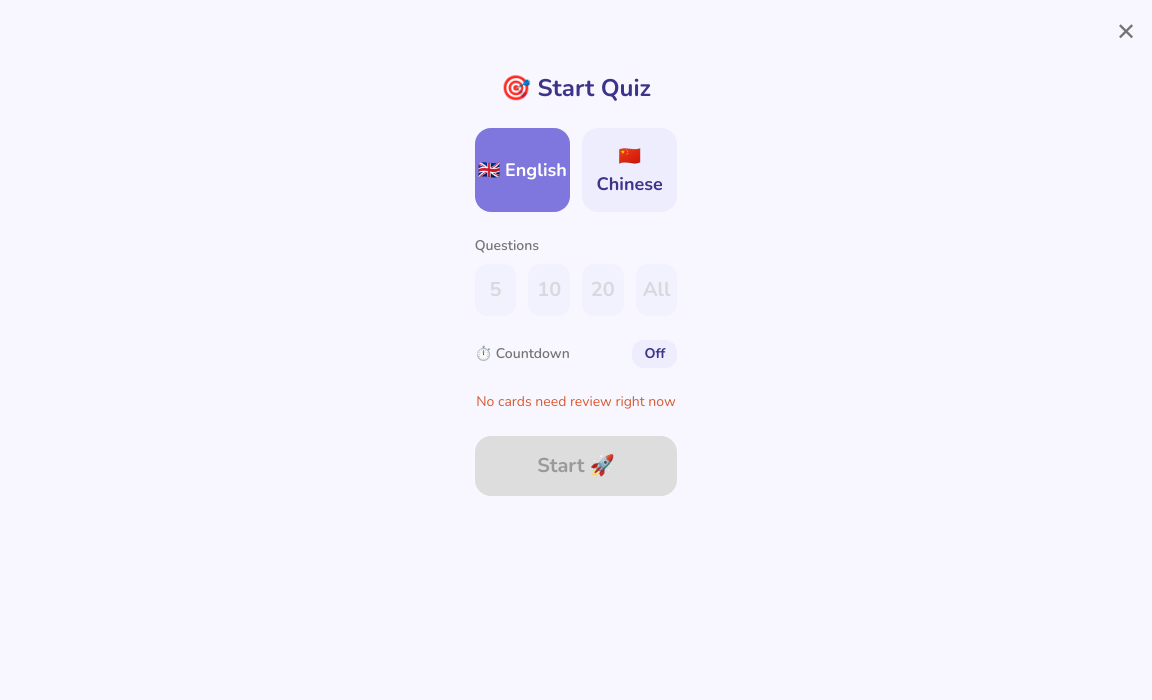
Scenario: QuizMode — Memory helper empty state › does not render the hint skeleton while fallback memory text is already visible
This screenshot has width=1152, height=700.
Click the button "🇨🇳 Chinese": x=630, y=170 x1=582 y1=128 x2=677 y2=212
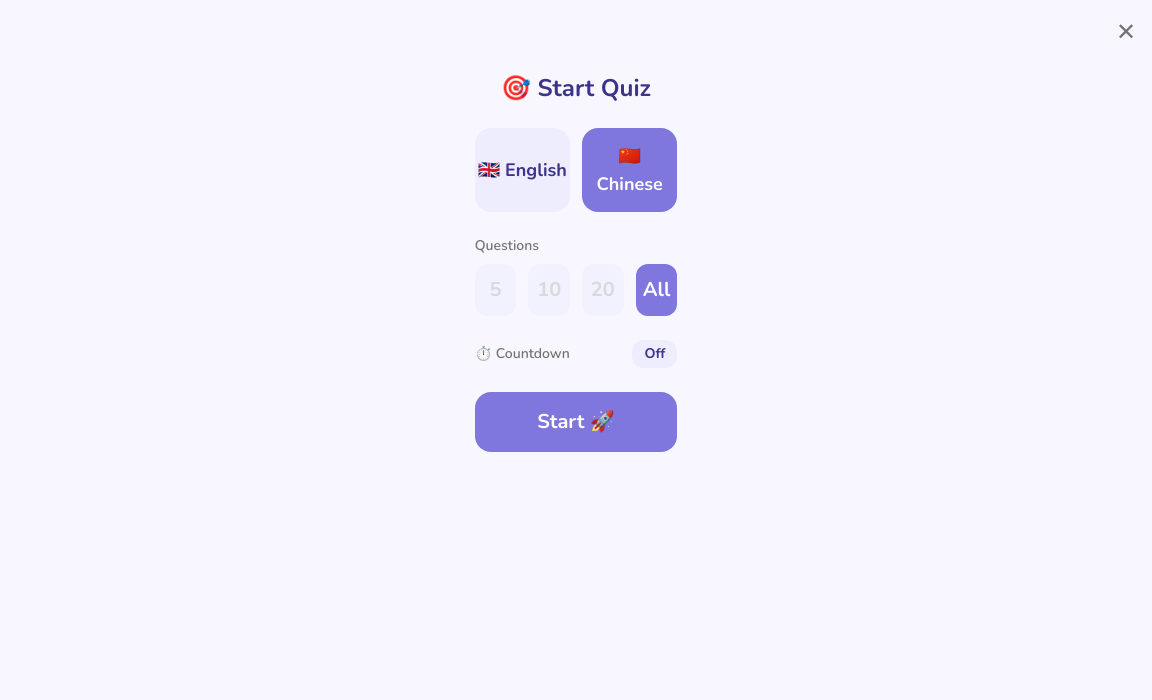
expect the button "Start 🚀" is enabled: met
Click the button "Start 🚀": x=576, y=422 x1=475 y1=392 x2=677 y2=452
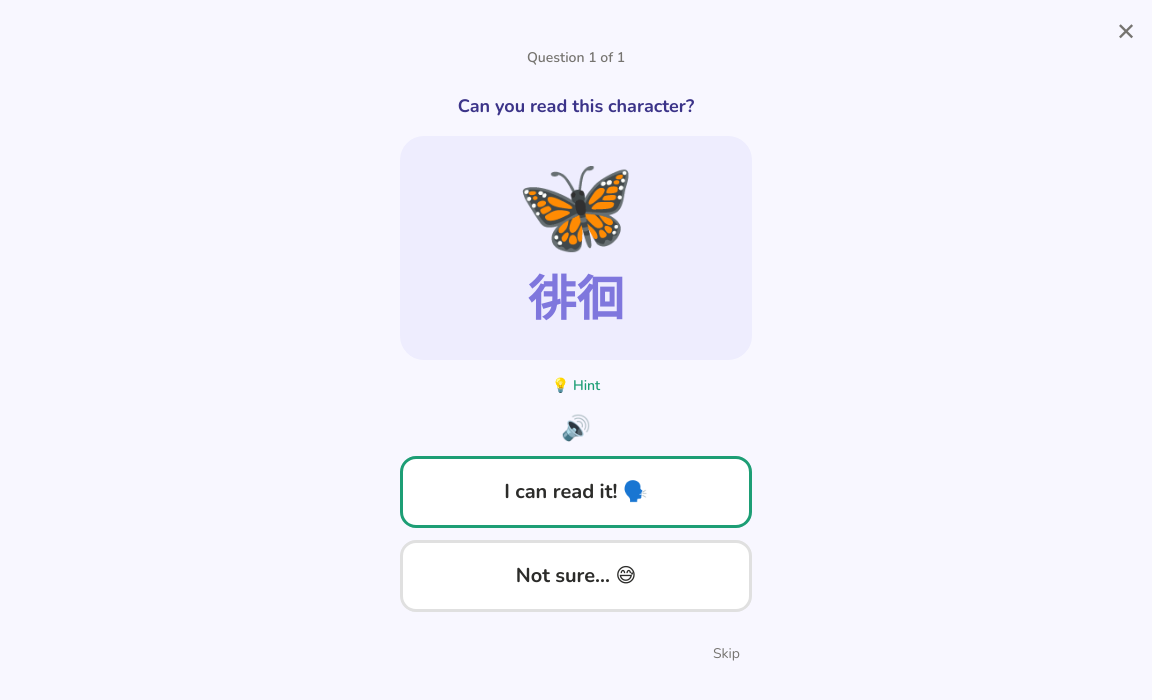
expect the button "Not sure... 😅" is shown: met
Click the button "Not sure... 😅": x=576, y=576 x1=400 y1=540 x2=752 y2=612
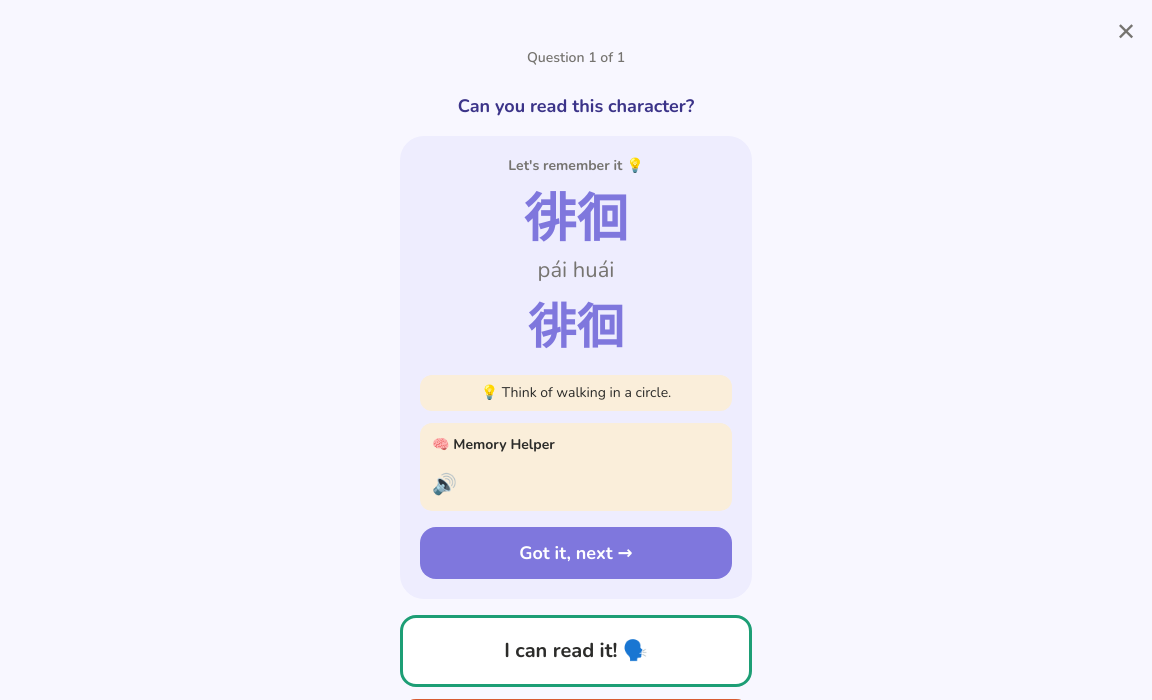
expect the text "💡 Think of walking in a circle." is shown: met, box x1=420 y1=375 x2=732 y2=411
